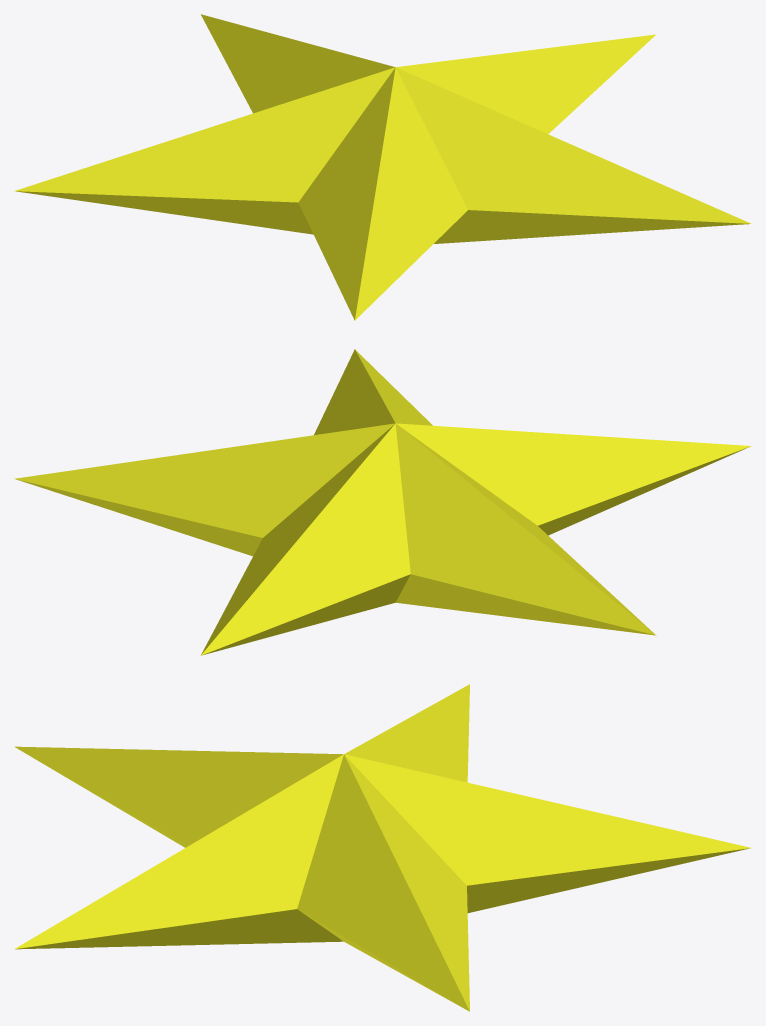
The model's file is STAR.fbx.
The picture shows the model from 3 angles, top to bottom: view 1: azimuth 30°, elevation 25°; view 2: azimuth 150°, elevation 25°; view 3: azimuth 270°, elevation 25°; orthographic projection. The views are drawn at different scales.
Visible parts, largest first — view 1: Circle.001; view 2: Circle.001; view 3: Circle.001.
Boxes of the visible parts, left/top/right/bottom form: Circle.001: left=14, top=14, right=751, bottom=320; Circle.001: left=14, top=349, right=751, bottom=655; Circle.001: left=14, top=684, right=750, bottom=1011.
Bounding box in the file's own units: 190 × 50.72 × 181.
